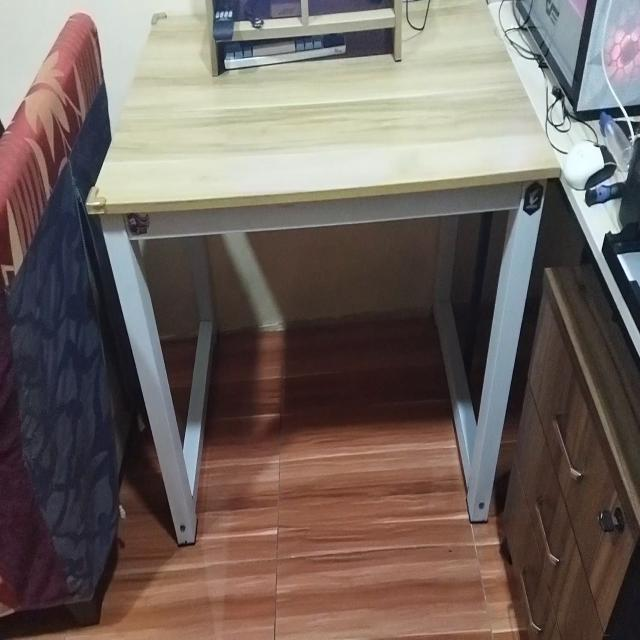table: (81, 4, 558, 550)
